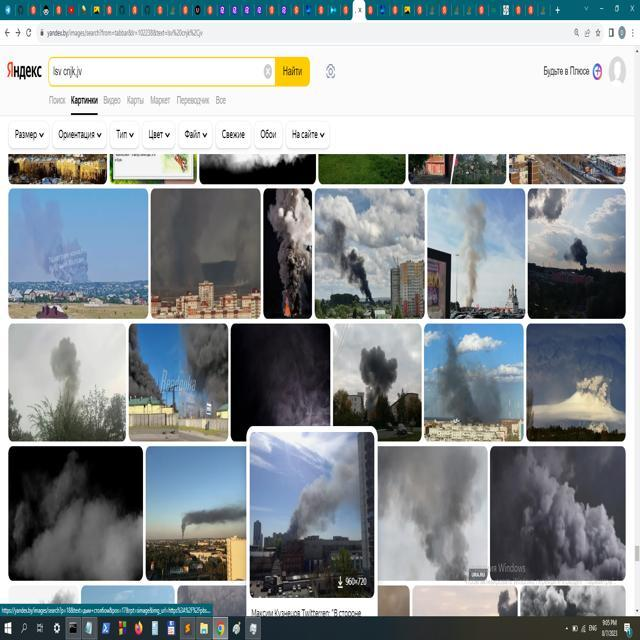Smoke: (497, 456, 627, 580), (12, 480, 142, 580), (402, 475, 480, 581), (291, 439, 364, 538), (435, 338, 503, 425), (270, 188, 314, 308), (322, 224, 378, 304), (182, 324, 230, 409), (26, 222, 88, 284), (276, 356, 330, 426), (522, 585, 624, 617), (559, 354, 615, 411), (130, 324, 167, 406), (457, 210, 483, 308), (51, 336, 84, 408), (176, 505, 246, 536), (564, 236, 594, 271), (495, 588, 520, 618)
